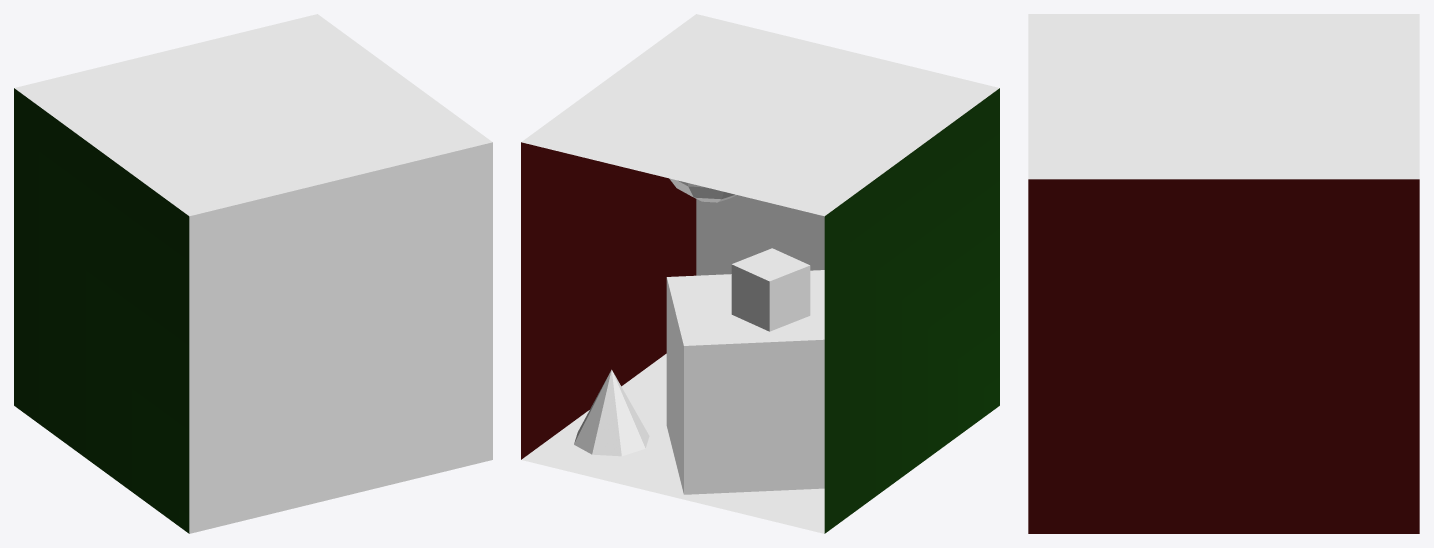
File: CornellGeom.fbx
3 renders of one model, left to right at view 1: azimuth 30°, elevation 25°; view 2: azimuth 150°, elevation 25°; view 3: azimuth 270°, elevation 25°, orthographic. The views are drawn at different scales.
Parts seen in each view (by area): view 1: BackWall.003; view 2: BackWall.003; view 3: BackWall.003.
Part boxes in pixels (box(x1,y1,x2,y2)): BackWall.003: box(14, 14, 492, 533); BackWall.003: box(521, 14, 999, 533); BackWall.003: box(1028, 14, 1419, 533).
Bounding box in the file's own units: 2 × 2 × 2.
